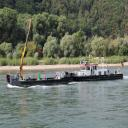tugboat: (73, 50, 127, 85)
